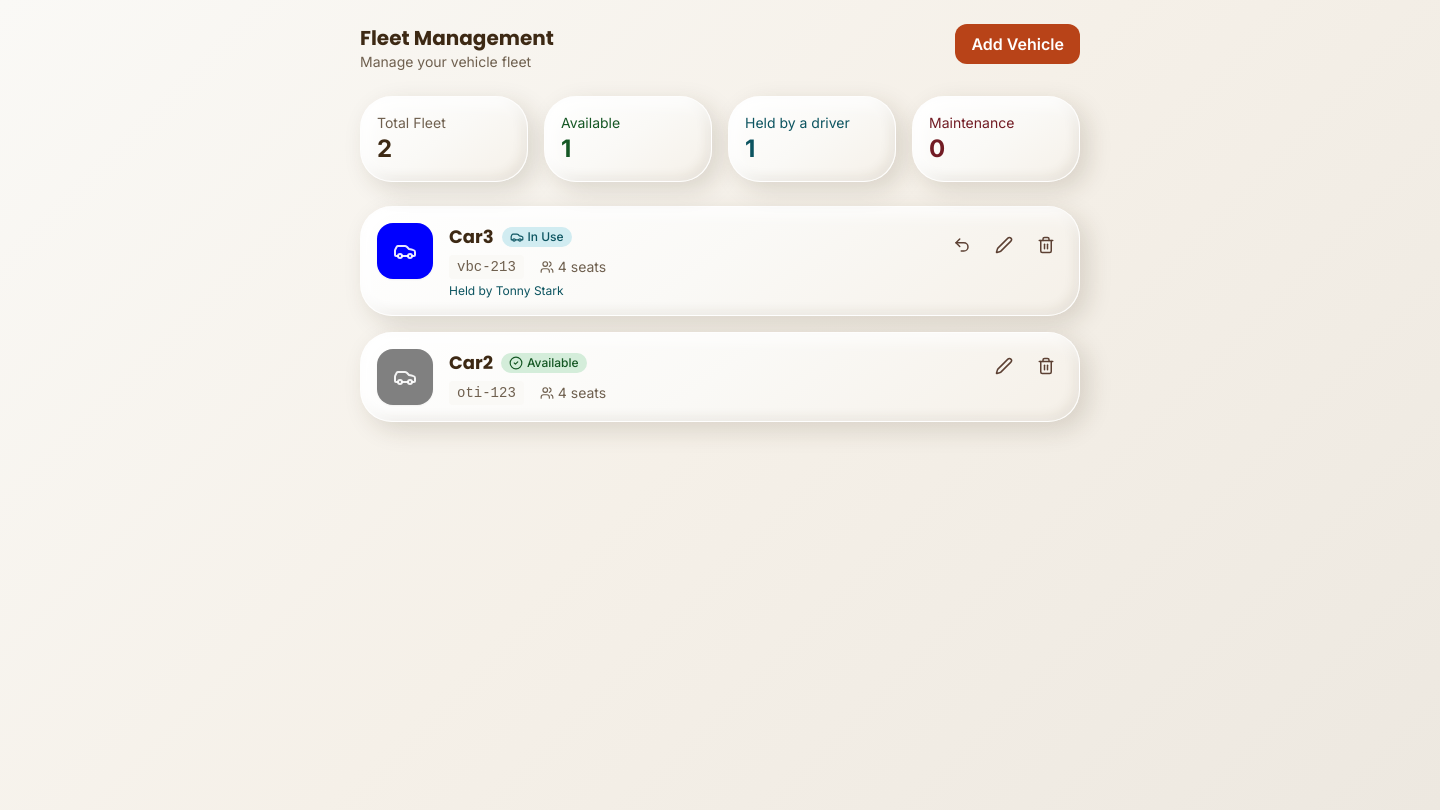
Test: FleetManagement — Release asks first, then actually releases › confirms in the UI when it worked
Click the button named "release car3 back to the fleet" at (962, 245), box [945,223,979,267]
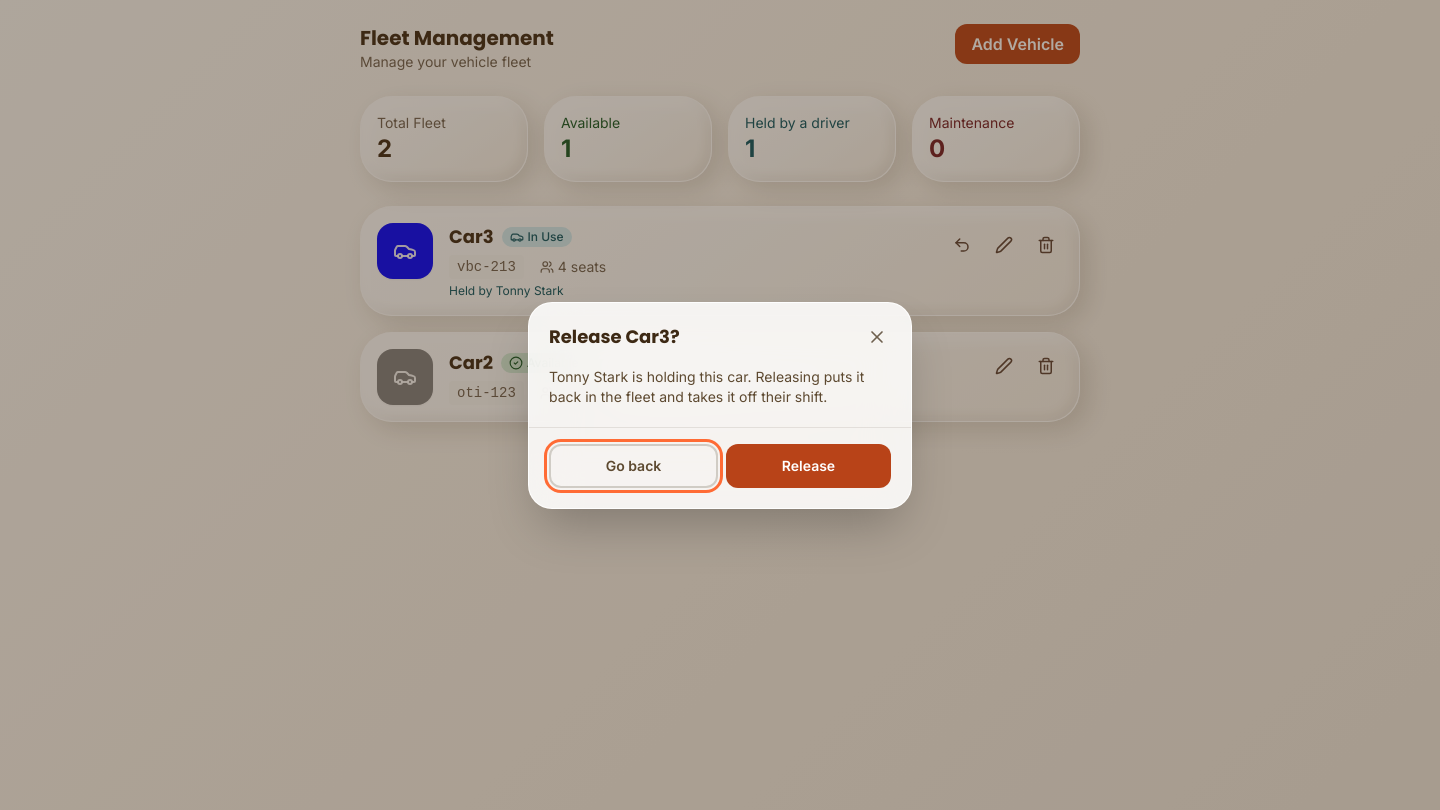
Click the button "Release" at (808, 466), box [726,444,891,488]
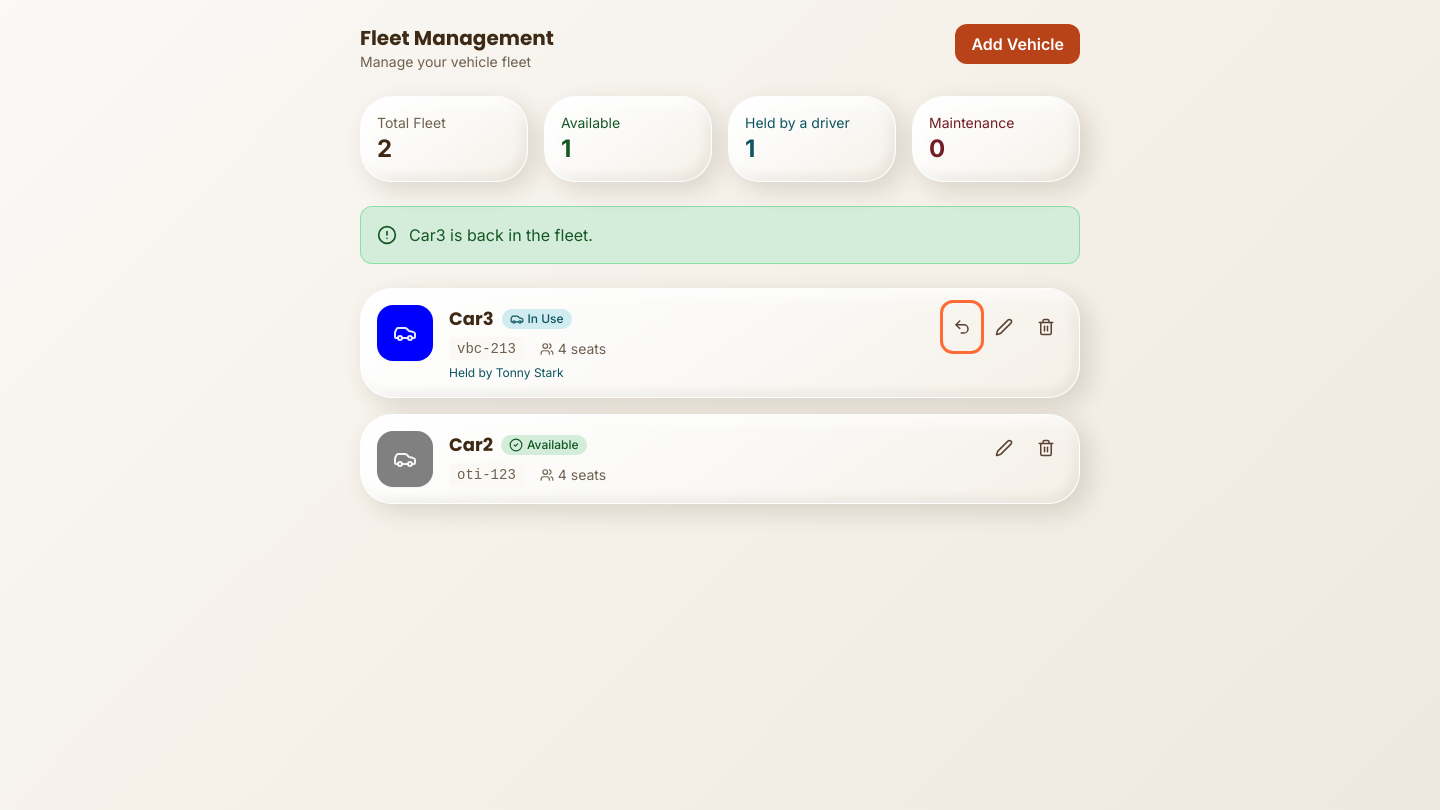
Now the text "Car3 is back in the fleet." is shown, box [409,223,593,247]
